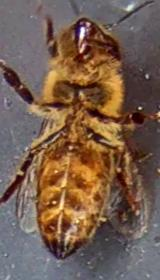varroa_mite: (50, 127, 94, 158)
